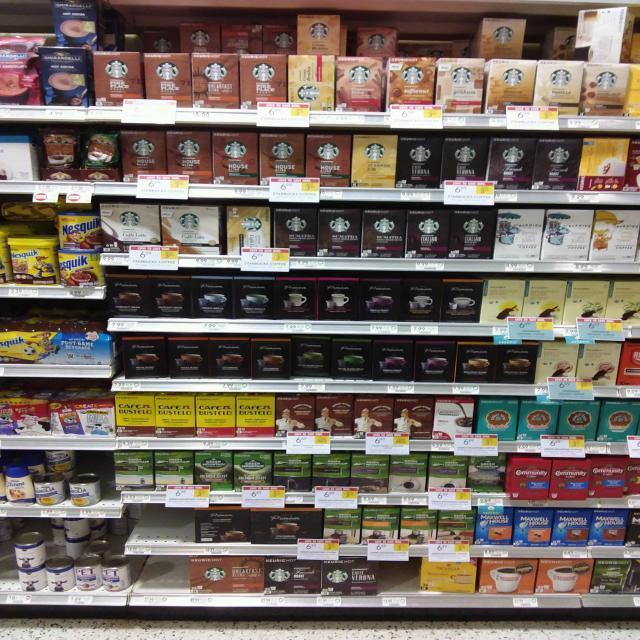Imprecise: (136, 19, 289, 102), (549, 18, 630, 115), (0, 194, 74, 286), (344, 15, 398, 109), (476, 13, 523, 118), (289, 12, 343, 102), (48, 512, 107, 588), (0, 516, 18, 598)
